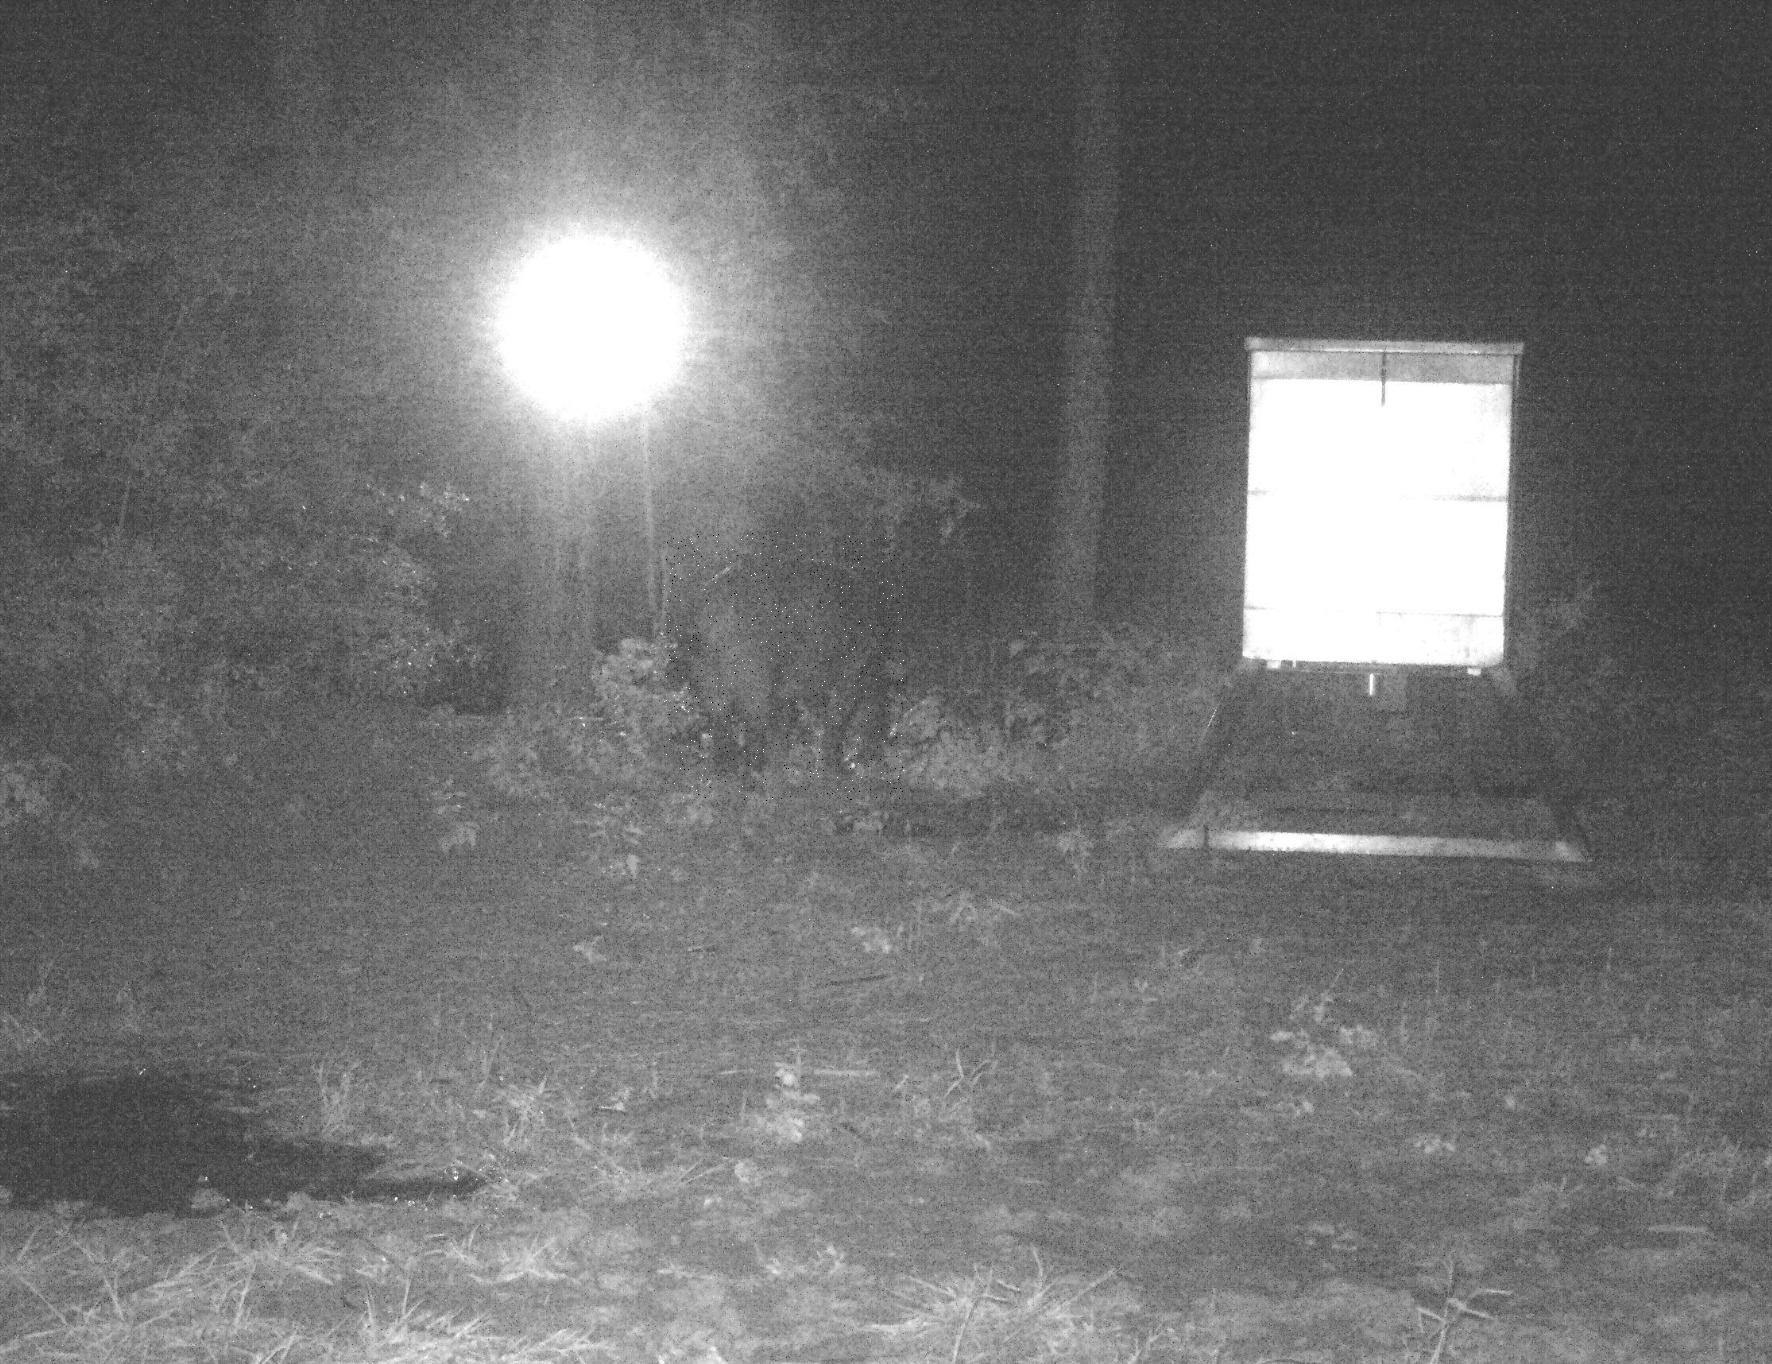Hog: (665, 532, 904, 802)
